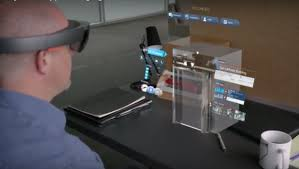hololens: (1, 18, 93, 57)
